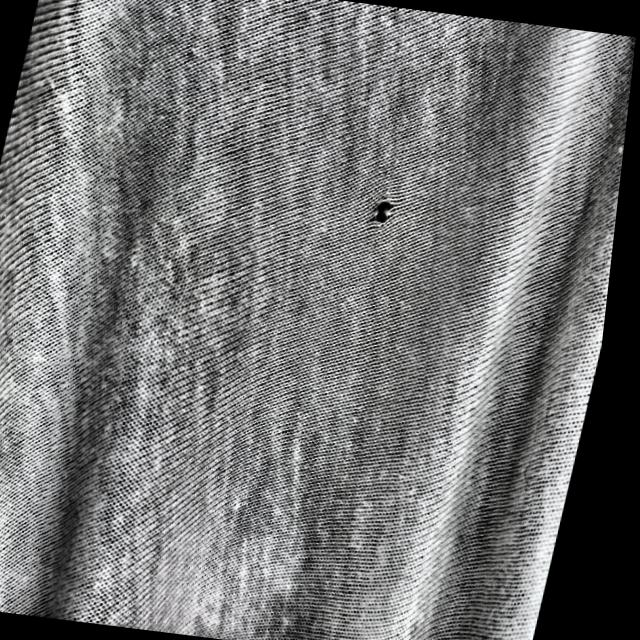Hole: (363, 190, 405, 234)
